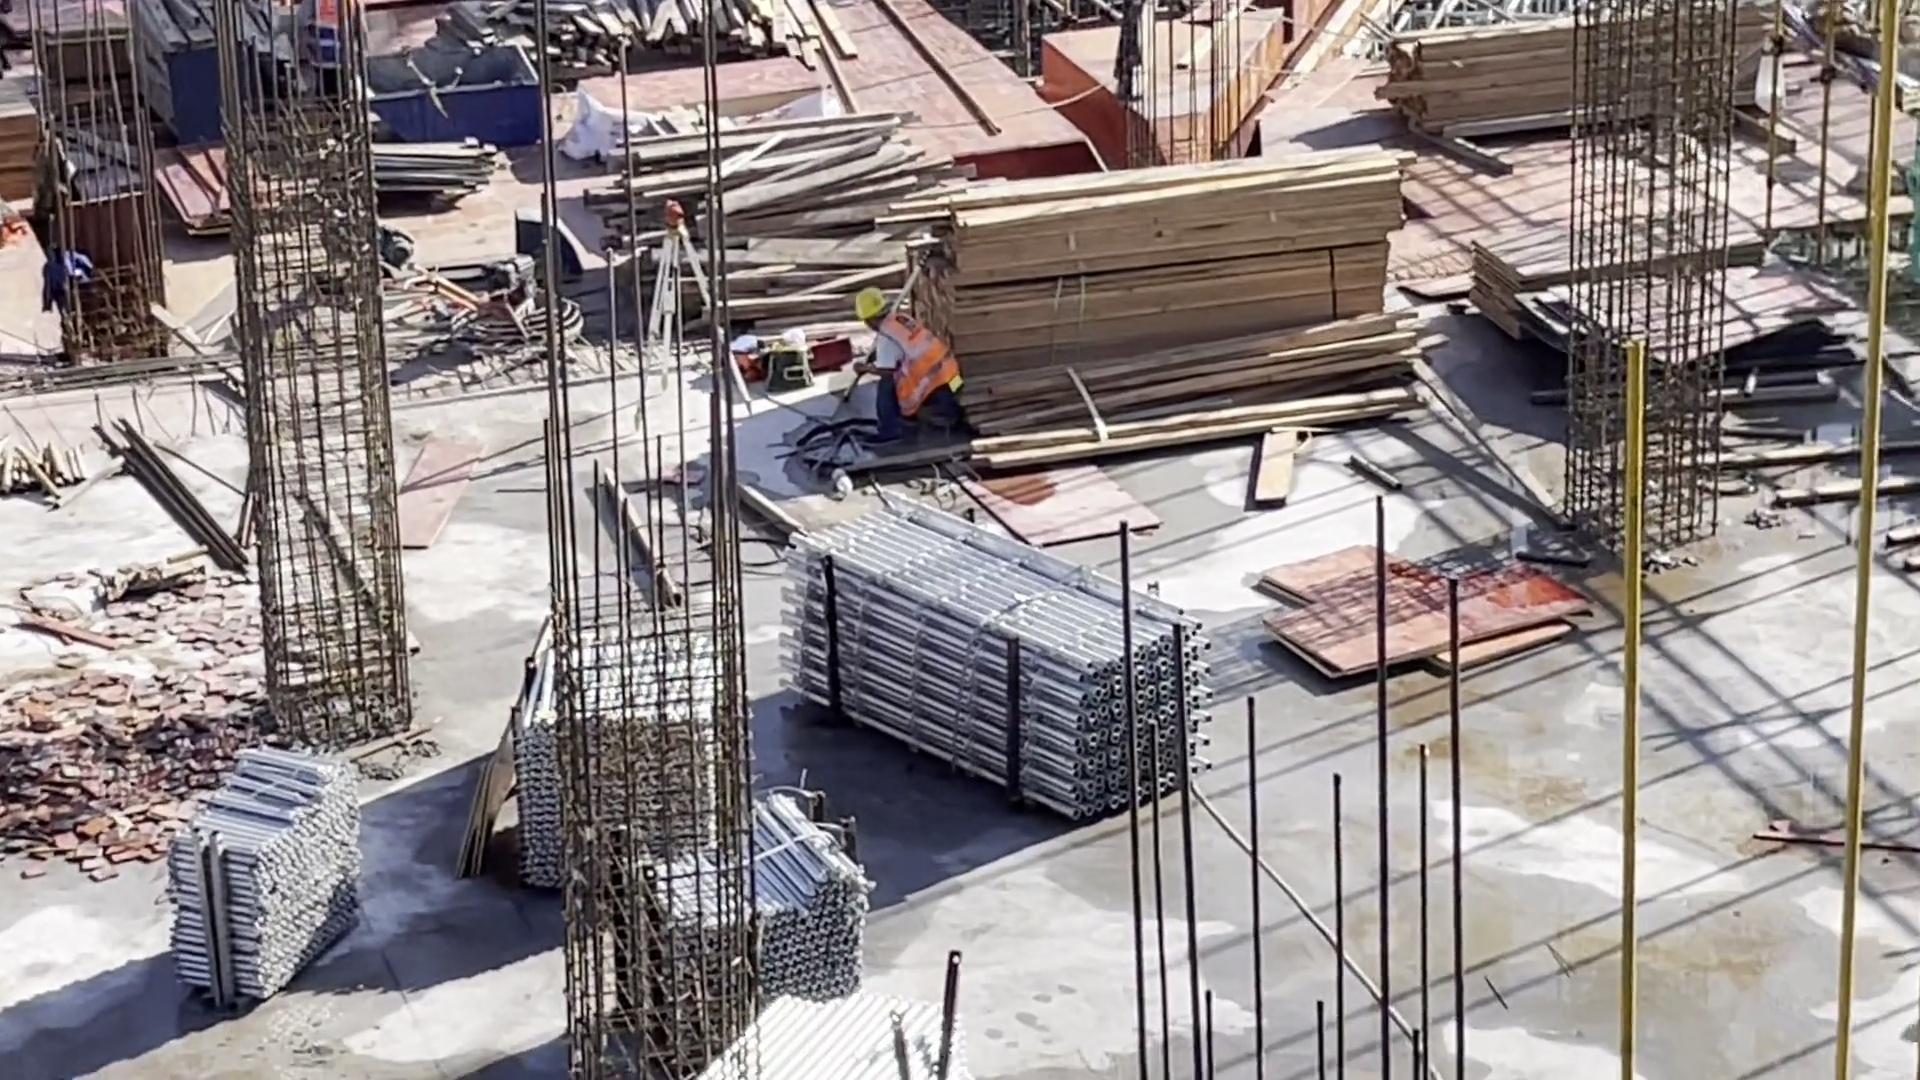board: (1469, 216, 1839, 356)
helmet: (857, 288, 884, 319)
hopper: (358, 45, 543, 144)
person: (855, 287, 960, 449)
scaffold: (528, 622, 963, 1080), (774, 490, 1217, 831), (166, 744, 370, 998)
vest: (880, 310, 958, 419)
wood: (878, 146, 1440, 472), (592, 113, 951, 319), (1378, 1, 1769, 147)
